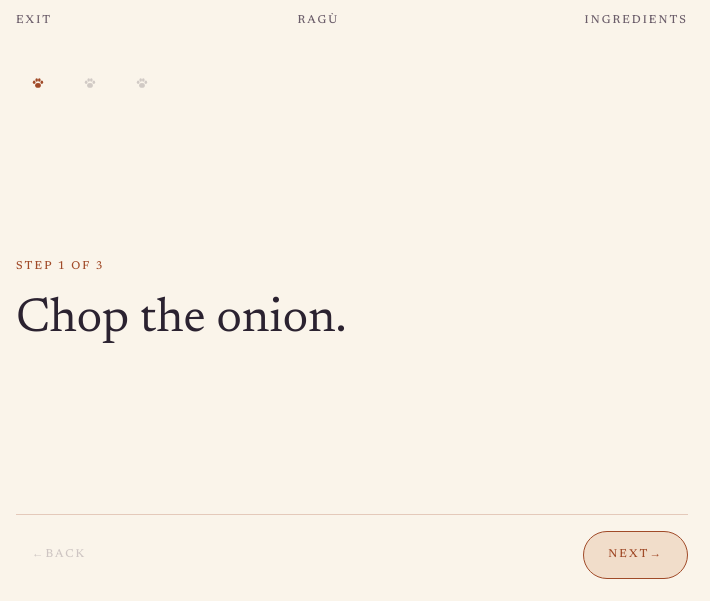
Test: CookMode › starts on step 1 and advances with Next
Expected: the text "Step 1 of 3" is shown, [16, 261, 104, 272]
Expected: the text "Chop the onion." is shown, [16, 296, 346, 344]
Click the button "Next →": (636, 555) [583, 531, 688, 579]
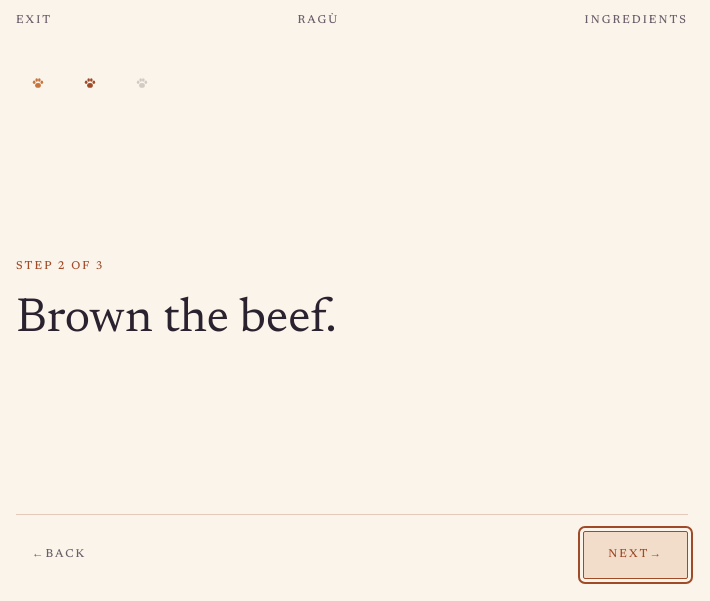
Result: the text "Step 2 of 3" is shown at [16, 261, 104, 272]
Result: the text "Brown the beef." is shown at [16, 296, 337, 344]
